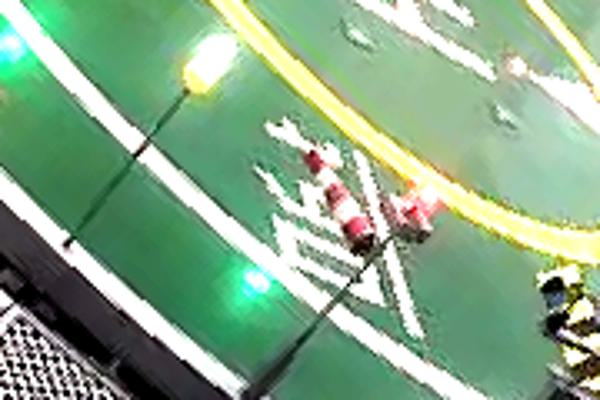Apron: (200, 1, 600, 267)
